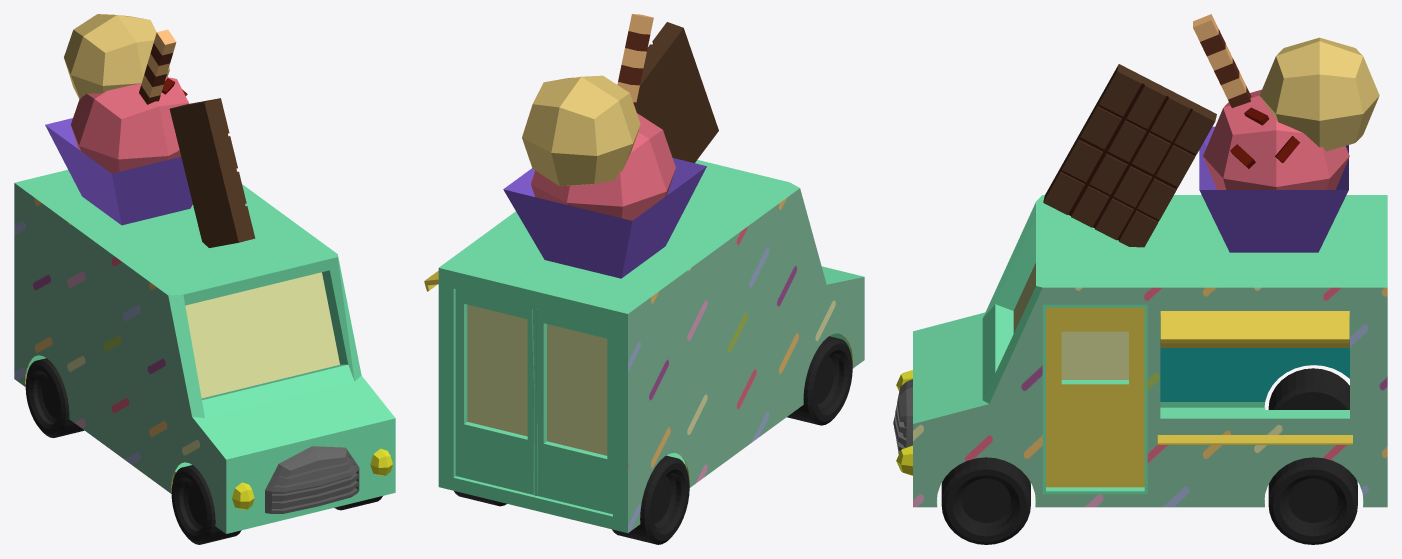
The model's file is FoodTruck_Doce.fbx.
The picture shows the model from 3 angles, left to right: view 1: azimuth 30°, elevation 25°; view 2: azimuth 150°, elevation 25°; view 3: azimuth 270°, elevation 25°; orthographic projection. The views are drawn at different scales.
Parts seen in each view (by area): view 1: Cube, Cube.010, Cube.008, Cube.007, RODA, Cube.009, Cube.006, Cube.012, Cube.005; view 2: Cube, Cube.007, Cube.009, RODA, Cube.010, Cube.008, Cube.012, Cube.004; view 3: Cube, Cube.010, RODA, Cube.009, Cube.008, Cube.007, Cube.013, Cube.001, Cube.012, Cube.006, Cube.011.
Part boxes in pixels (box(x1,y1,x2,y2)): Cube: box(14, 169, 395, 533); Cube.010: box(169, 98, 255, 247); Cube.008: box(71, 77, 189, 173); Cube.007: box(45, 118, 192, 225); RODA: box(25, 358, 382, 544); Cube.009: box(64, 14, 169, 98); Cube.006: box(265, 446, 359, 513); Cube.012: box(139, 29, 176, 104); Cube.005: box(232, 448, 392, 509); Cube: box(438, 160, 864, 533); Cube.007: box(503, 158, 706, 278); Cube.009: box(522, 75, 640, 186); RODA: box(454, 336, 852, 544); Cube.010: box(635, 22, 718, 163); Cube.008: box(531, 113, 675, 220); Cube.012: box(617, 14, 653, 107); Cube.004: box(533, 308, 536, 490); Cube: box(913, 195, 1387, 507); Cube.010: box(1043, 64, 1216, 247); RODA: box(941, 368, 1357, 544); Cube.009: box(1259, 37, 1379, 151); Cube.008: box(1203, 89, 1349, 189); Cube.007: box(1199, 126, 1348, 252); Cube.013: box(1160, 316, 1349, 401); Cube.001: box(1160, 311, 1349, 347); Cube.012: box(1193, 14, 1251, 107); Cube.006: box(893, 379, 912, 454); Cube.011: box(1230, 107, 1299, 168).
Size of the model in its own units: 461 by 911 by 867.
